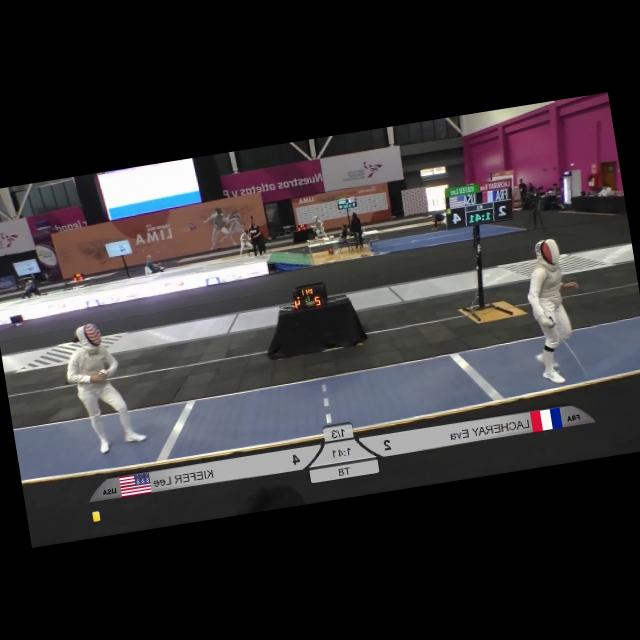blade: (546, 314, 588, 382), (64, 355, 105, 382)
